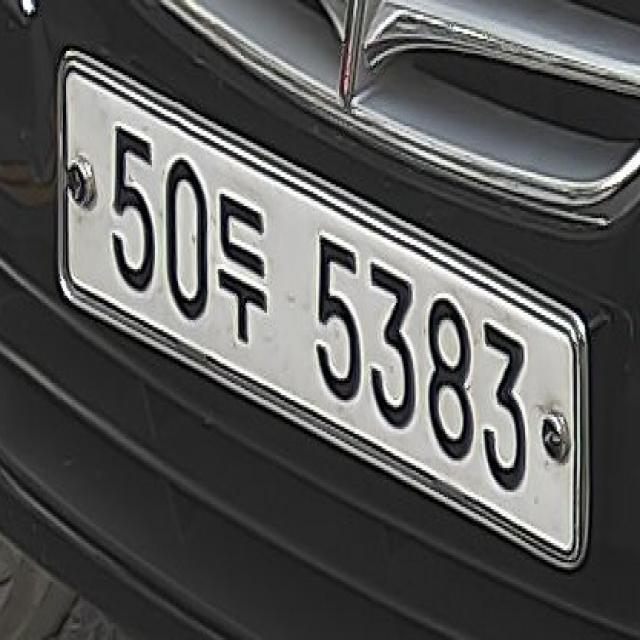0: (160, 154, 212, 332)
3: (479, 318, 534, 504), (370, 255, 420, 440)
5: (308, 230, 363, 409), (106, 126, 156, 296)
8: (423, 292, 475, 470)
du: (212, 185, 272, 356)
license_plate: (51, 36, 596, 596)
